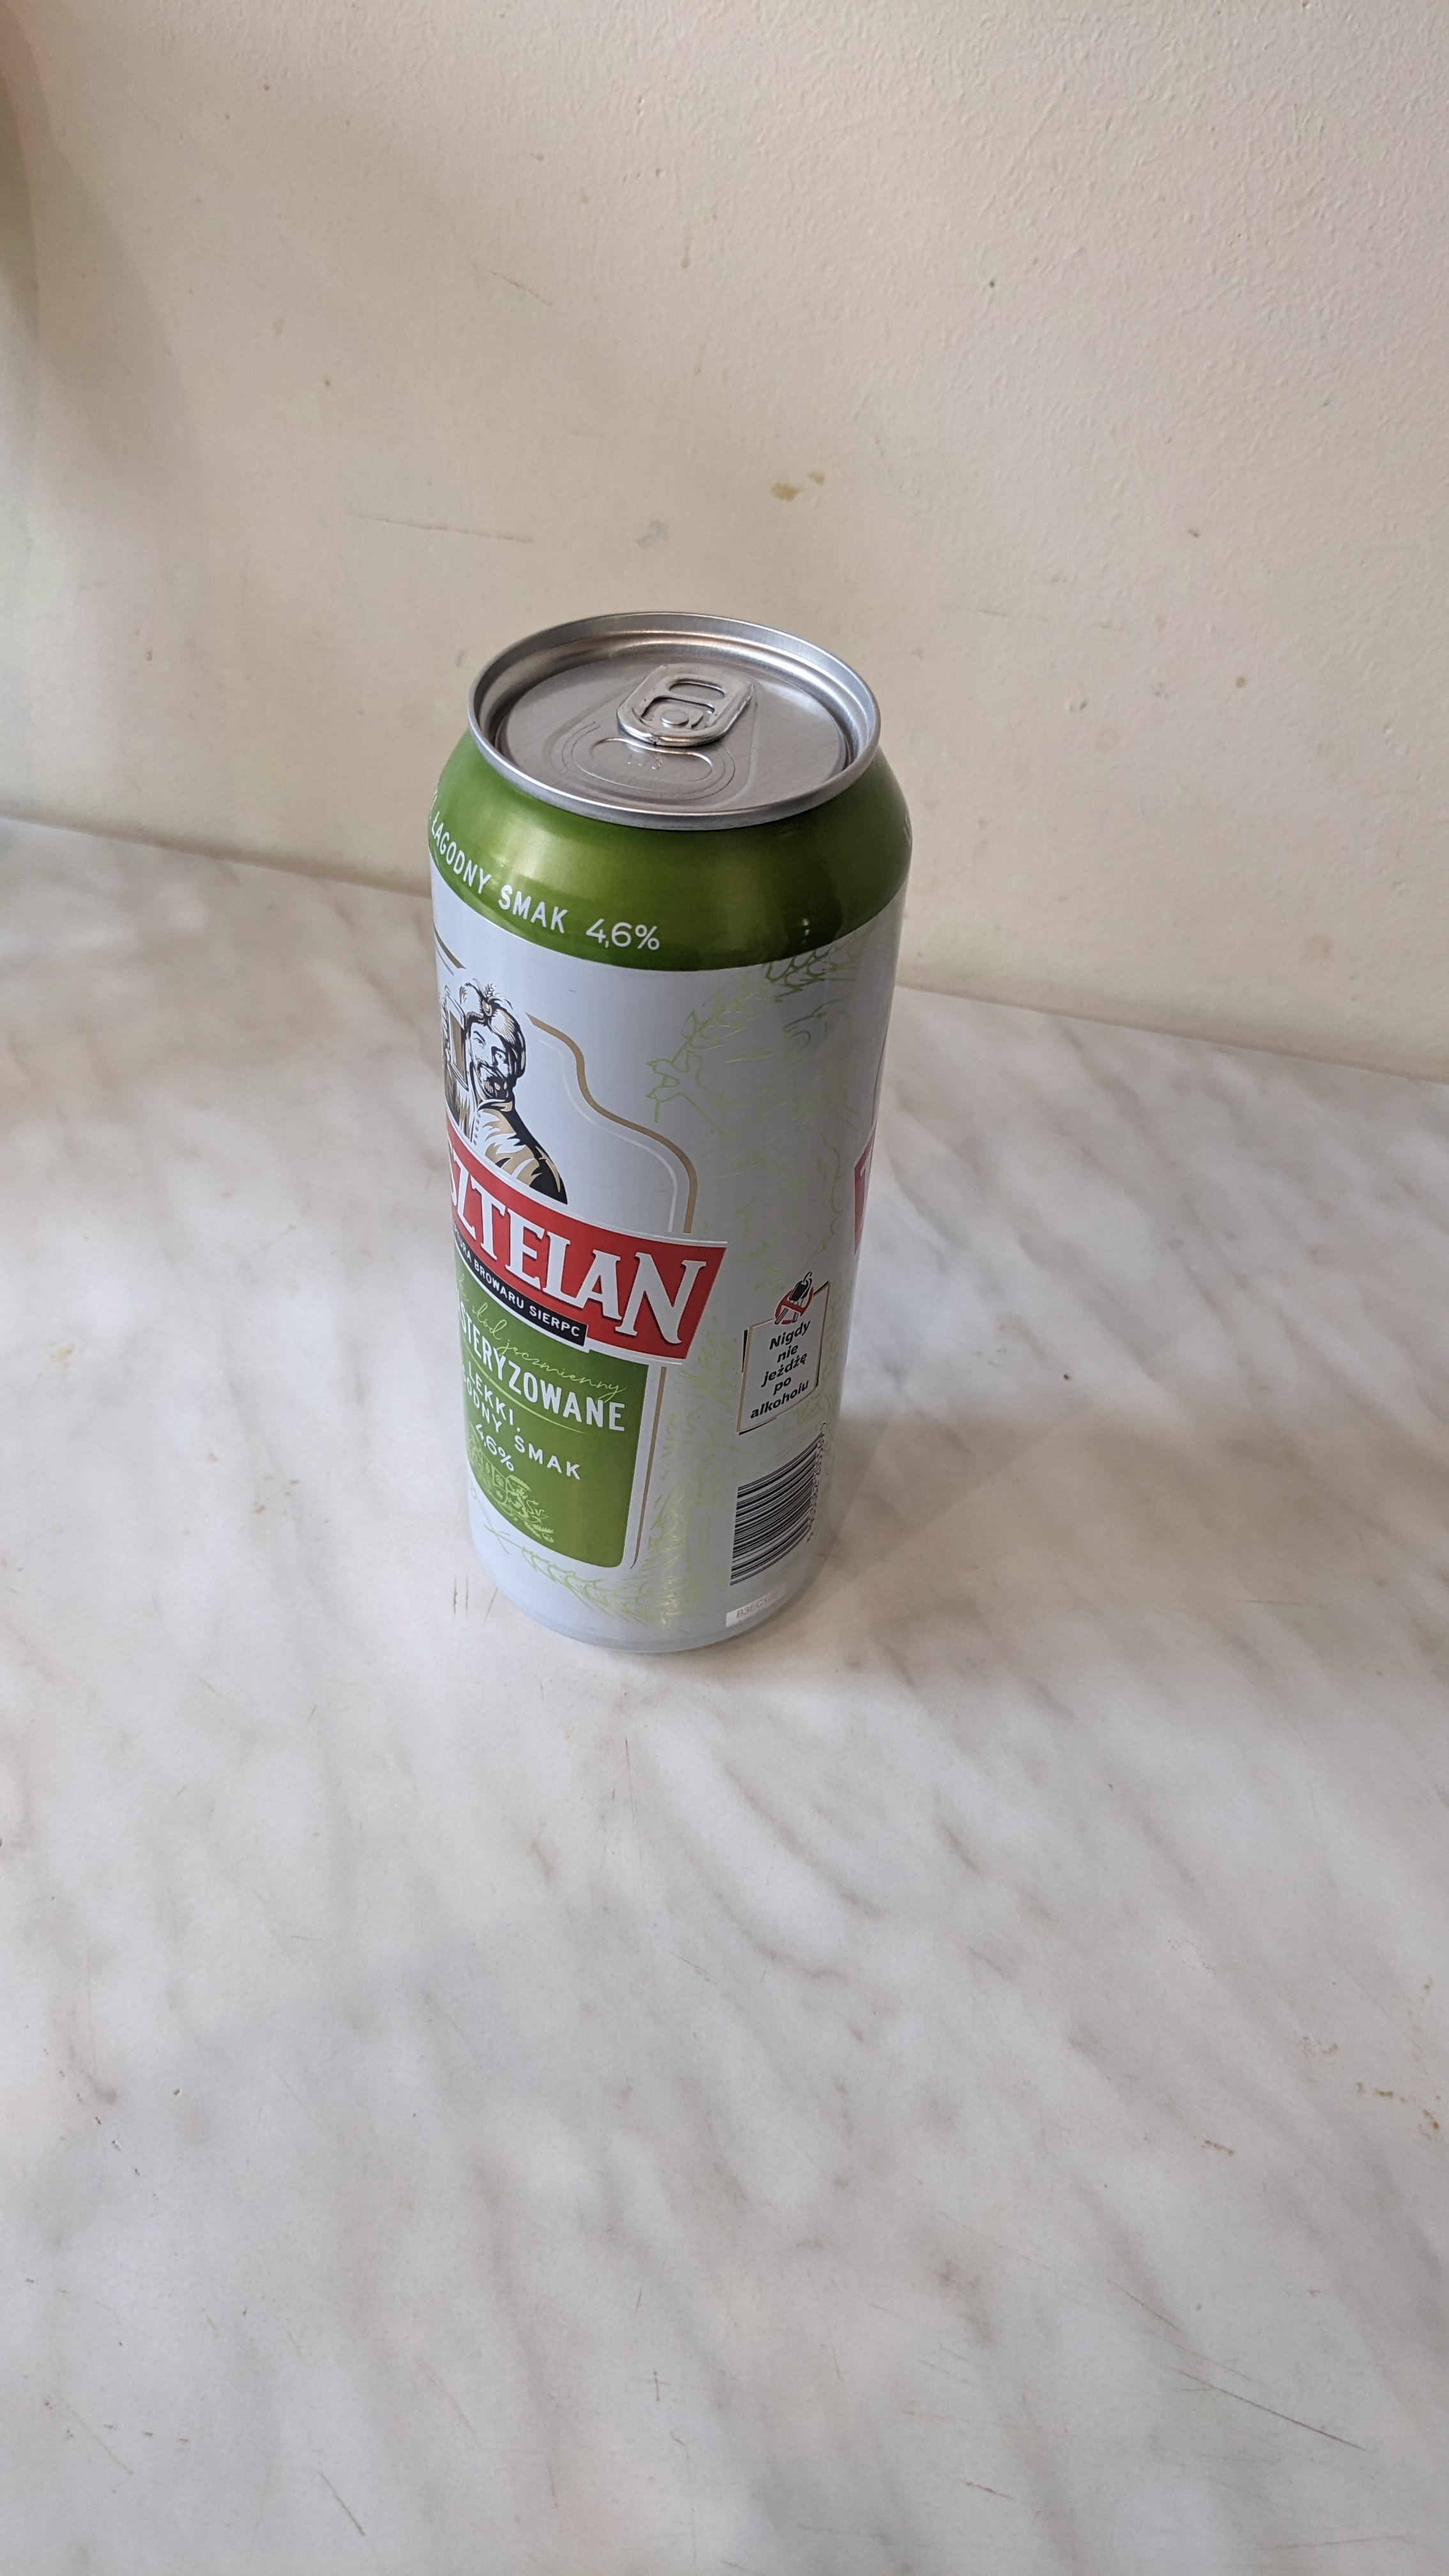kasztelan: (432, 607, 899, 1679)
